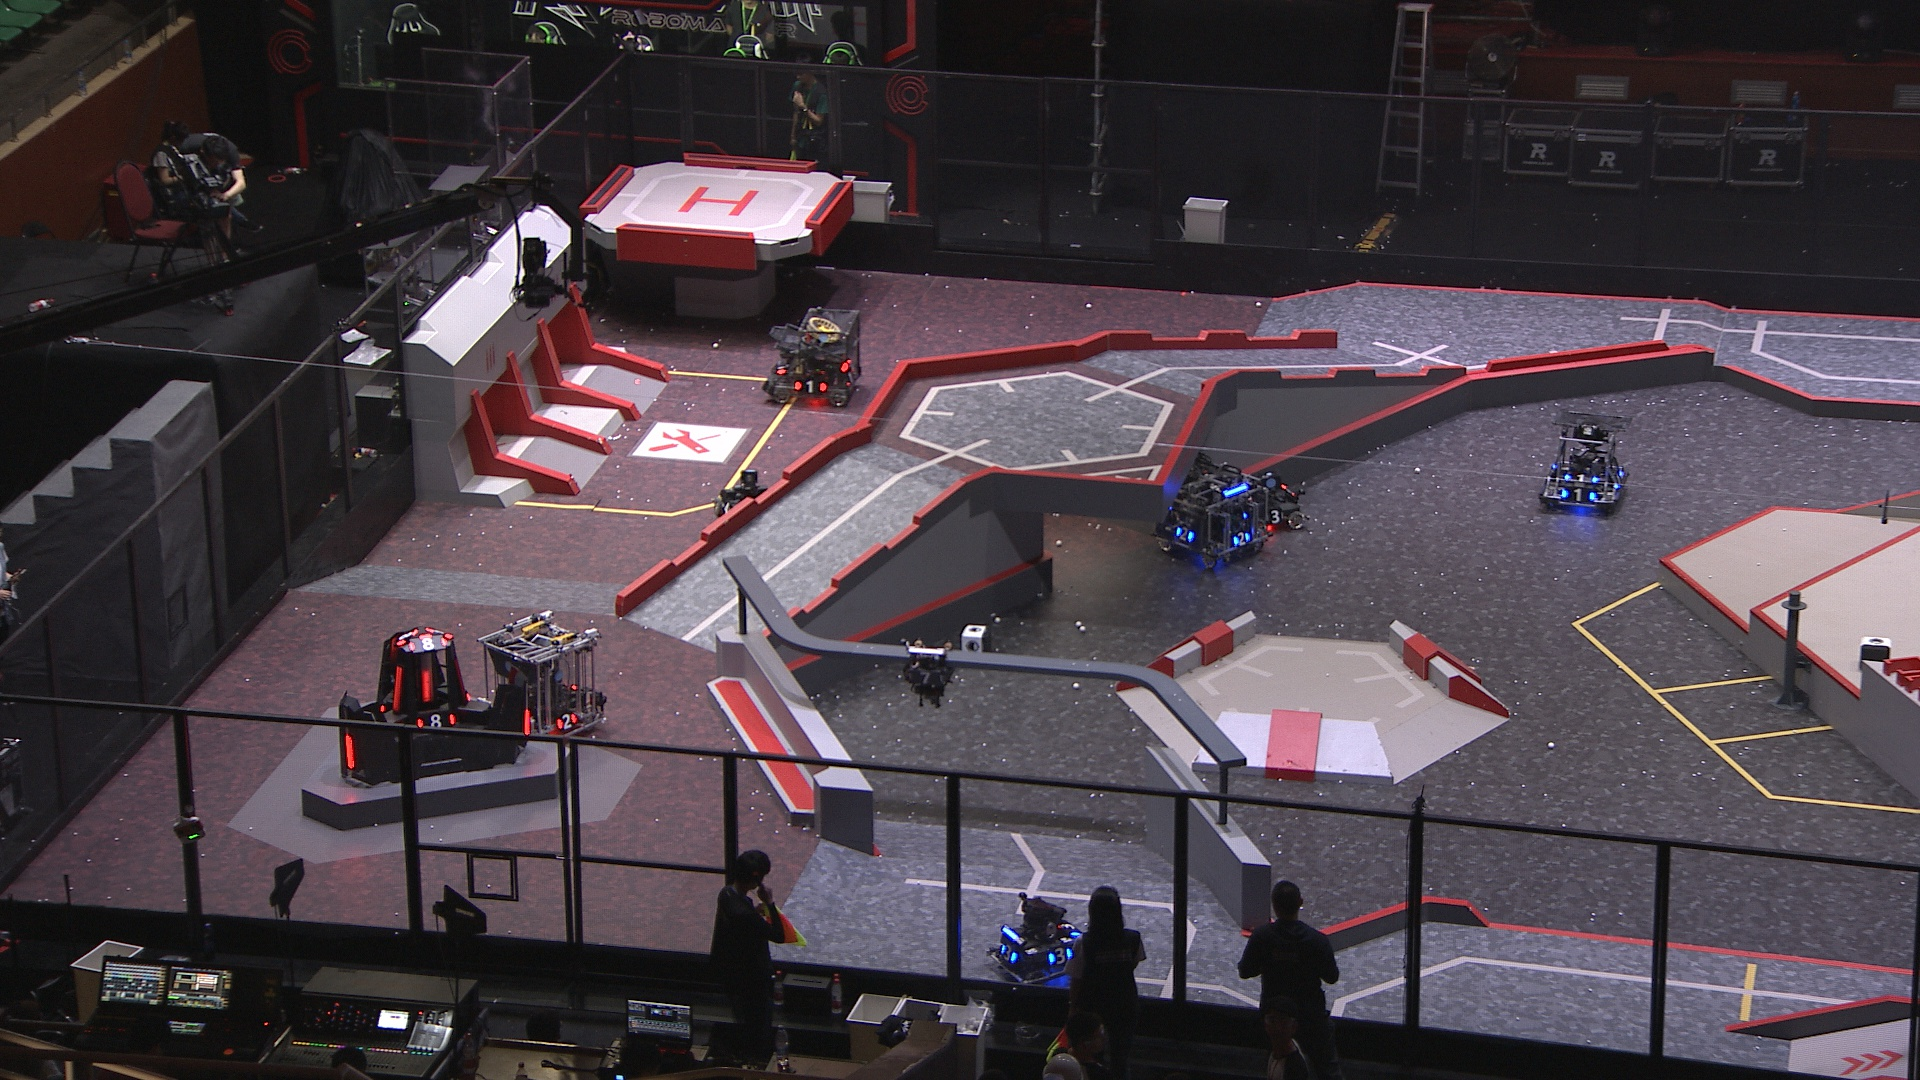armor: (386, 665, 404, 717), (419, 711, 456, 731), (406, 636, 451, 651), (907, 665, 945, 683), (794, 377, 828, 396), (1560, 489, 1598, 505), (556, 712, 579, 735), (1565, 472, 1600, 487), (419, 670, 433, 707), (1174, 524, 1197, 543), (344, 733, 356, 771), (1055, 913, 1076, 934), (1048, 945, 1072, 964), (1000, 943, 1019, 963), (520, 704, 531, 737), (1263, 509, 1286, 526), (396, 626, 415, 645), (1232, 531, 1253, 546), (774, 357, 789, 378), (843, 367, 858, 385), (1615, 467, 1625, 495)
base: (338, 621, 535, 785)
car: (476, 612, 608, 746), (1141, 448, 1266, 576), (760, 305, 865, 411), (1538, 410, 1638, 506), (989, 893, 1083, 992), (705, 465, 789, 551), (1228, 465, 1309, 537)
watcher: (898, 638, 957, 708)
